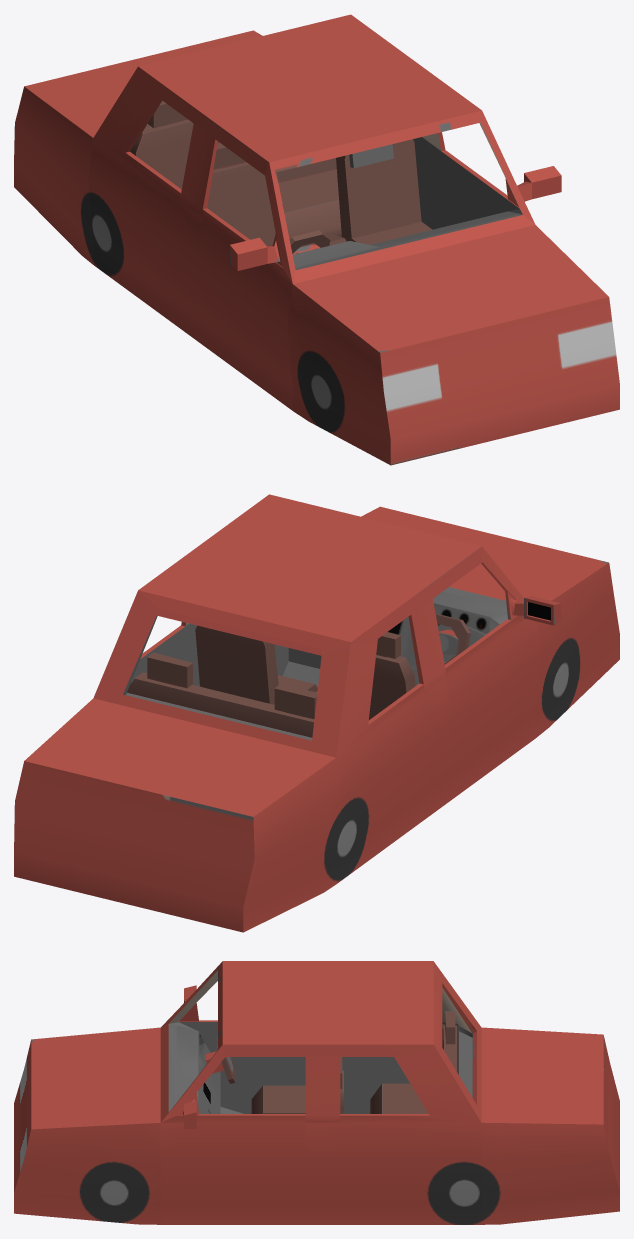
File: car.fbx
3 renders of one model, top to bottom at view 1: azimuth 30°, elevation 25°; view 2: azimuth 150°, elevation 25°; view 3: azimuth 270°, elevation 25°, orthographic. The views are drawn at different scales.
Parts seen in each view (by area): view 1: car; view 2: car; view 3: car.
Part boxes in pixels (<box>): car: <box>14,14,619,465</box>; car: <box>14,494,619,932</box>; car: <box>14,961,619,1224</box>.
Size of the model in its own units: 85.89 by 54.95 by 173.
